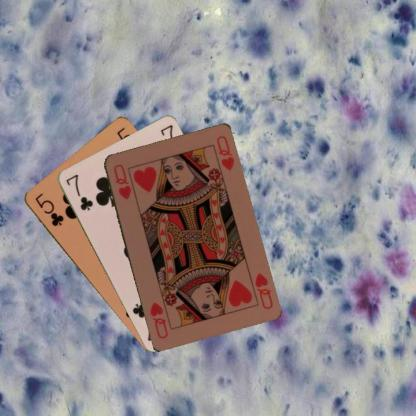5c: (32, 190, 64, 228)
7c: (63, 171, 94, 212)
Qh: (251, 270, 274, 311), (110, 161, 132, 201)
